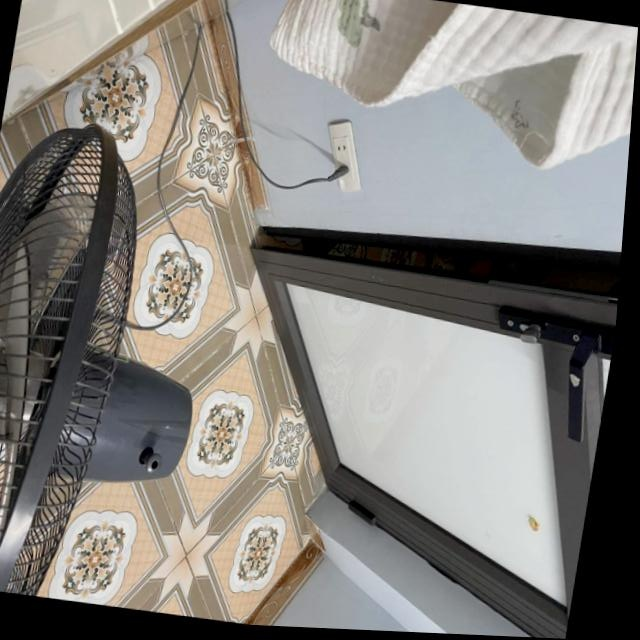outlet: (319, 116, 373, 194)
